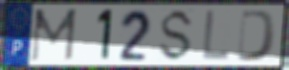1: (93, 7, 115, 64)
2: (115, 6, 156, 65)
D: (235, 9, 278, 63)
L: (200, 9, 231, 63)
M: (28, 7, 79, 64)
S: (156, 8, 196, 64)
